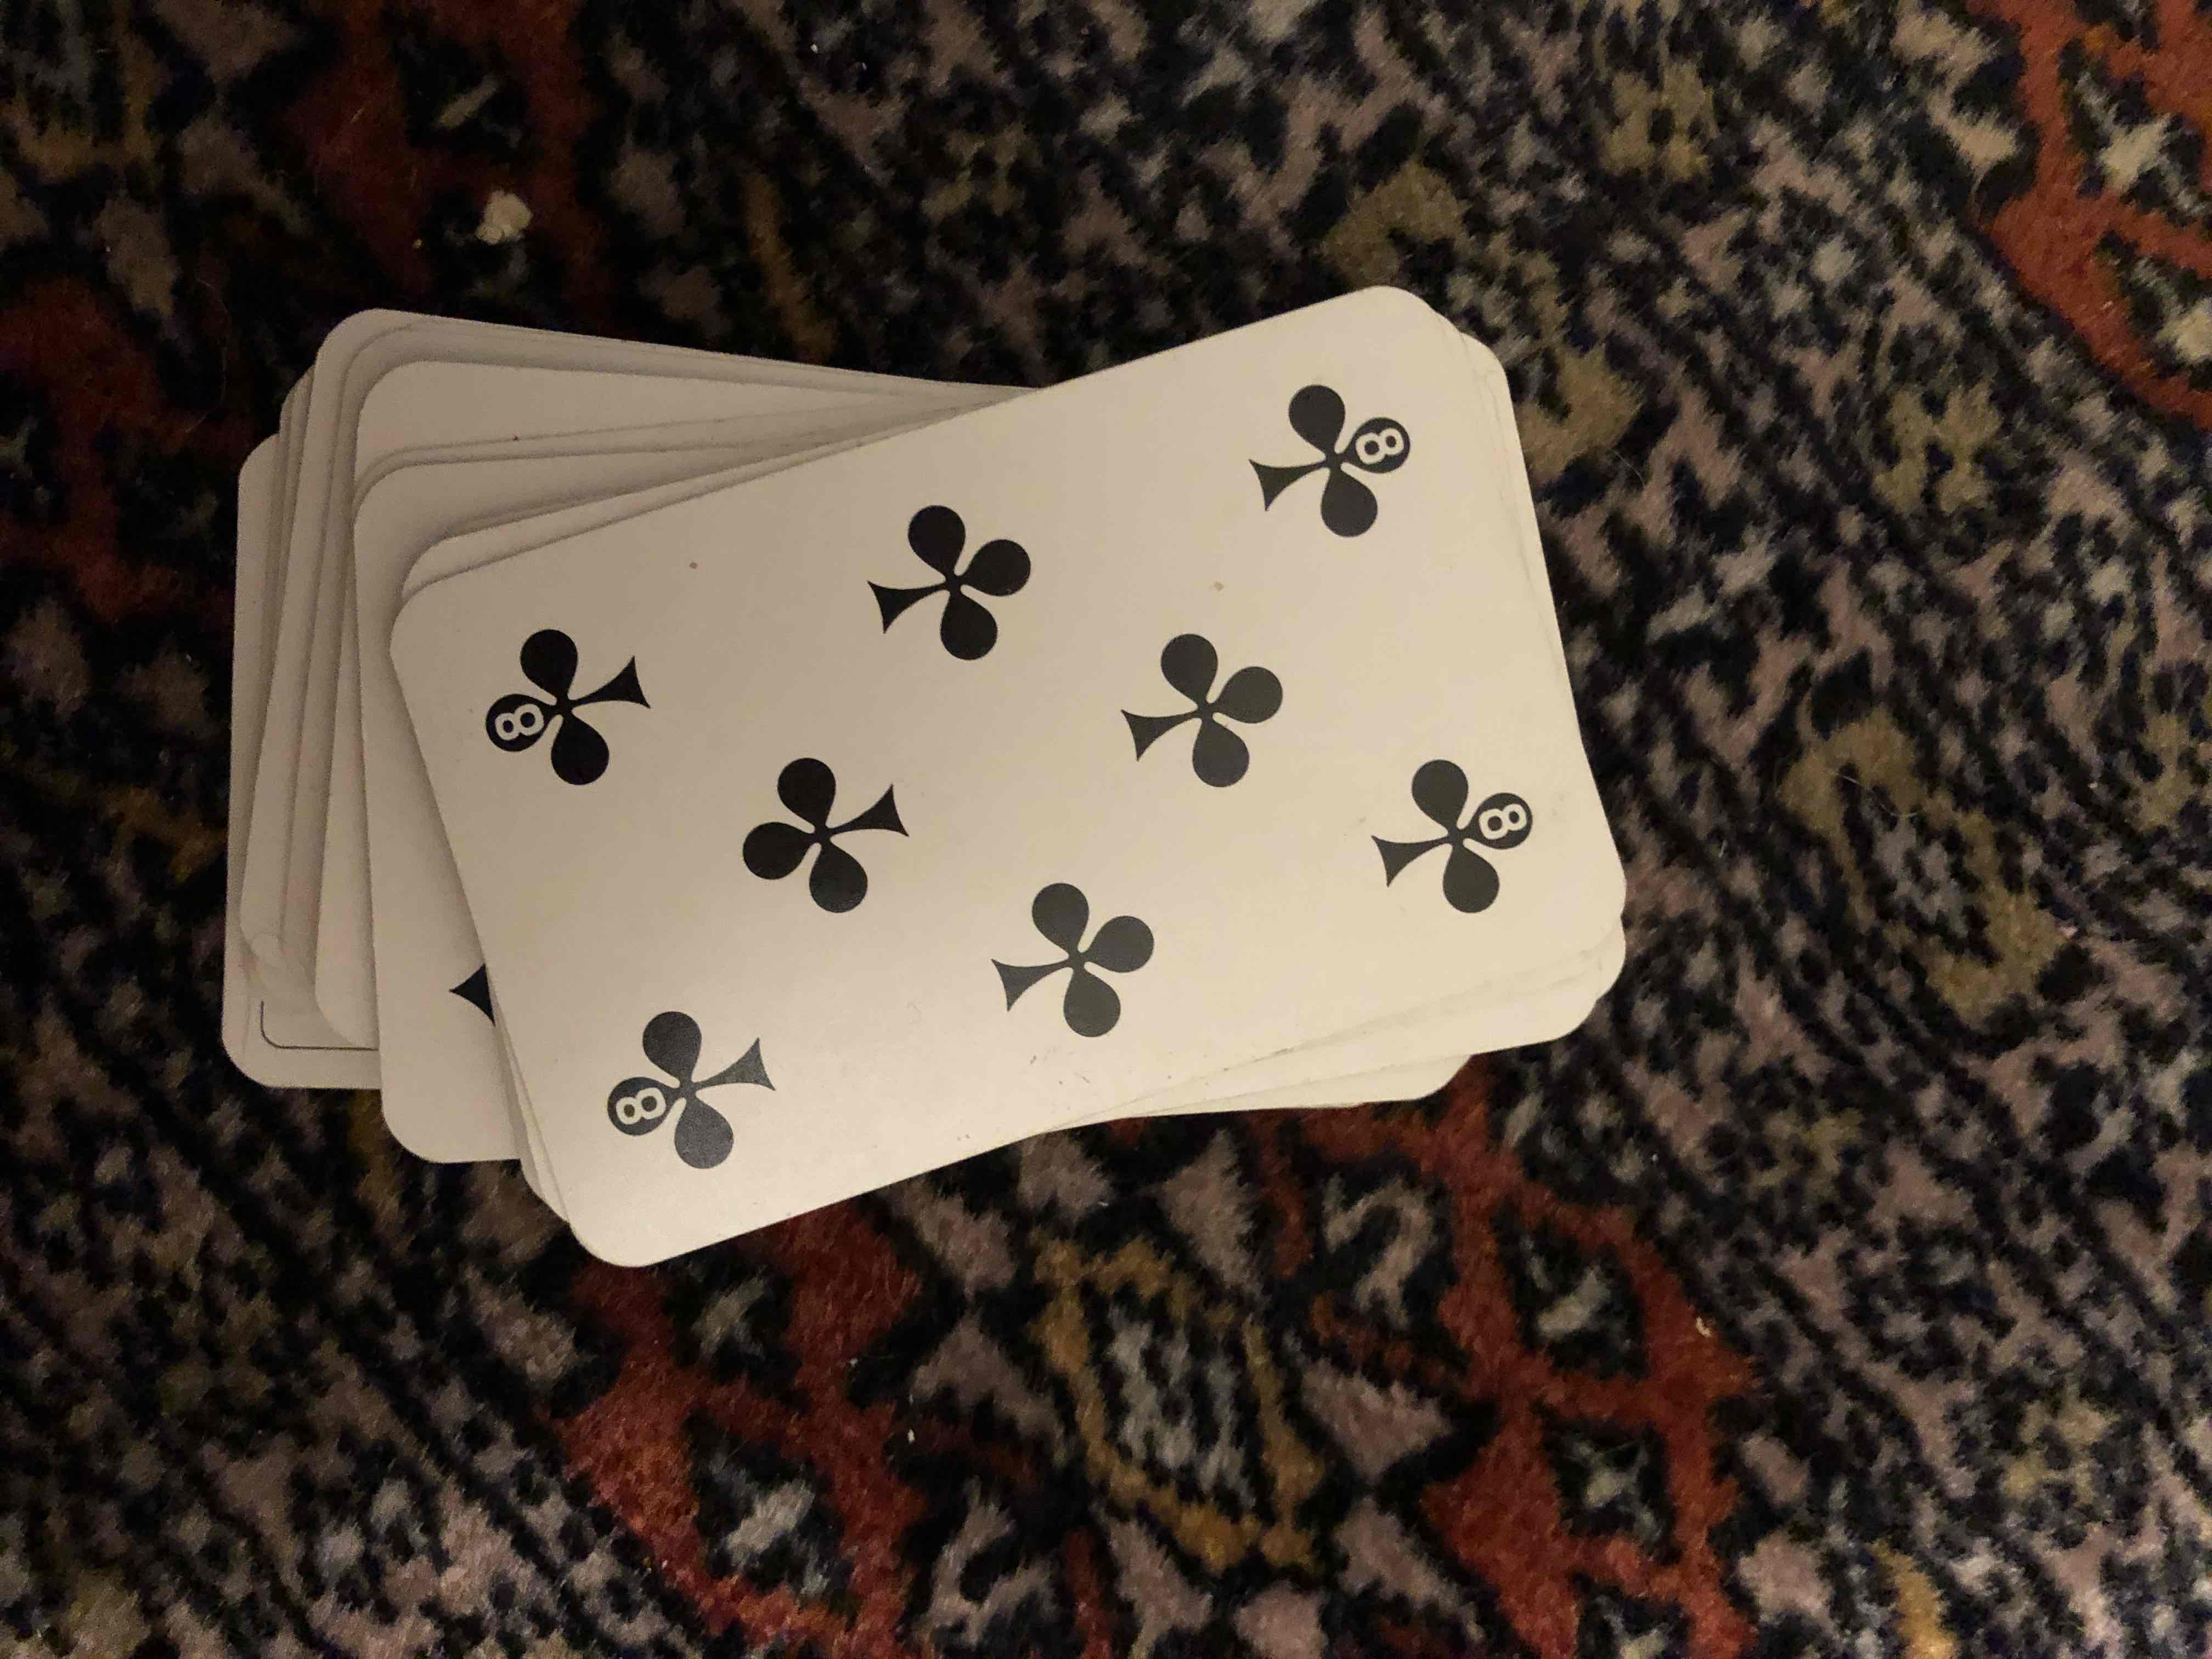clubs10: (402, 396, 1627, 1192)
